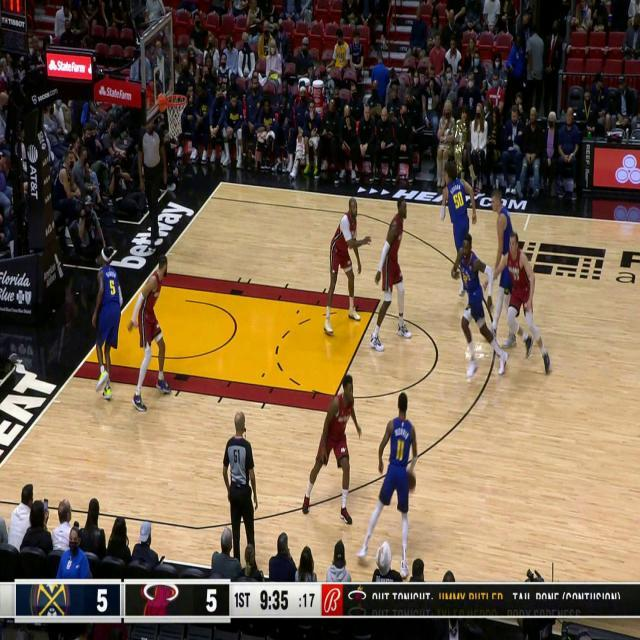rim: (407, 470, 417, 490)
